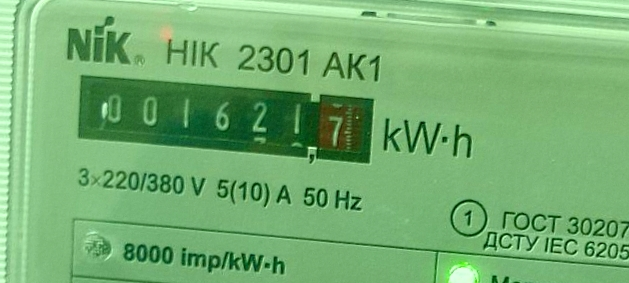0: (137, 91, 163, 131), (103, 89, 126, 125)
1: (288, 99, 306, 137), (177, 94, 195, 131)
2: (248, 98, 273, 136)
6: (211, 98, 234, 134)
7: (322, 112, 346, 150)
screen: (68, 62, 383, 178)
